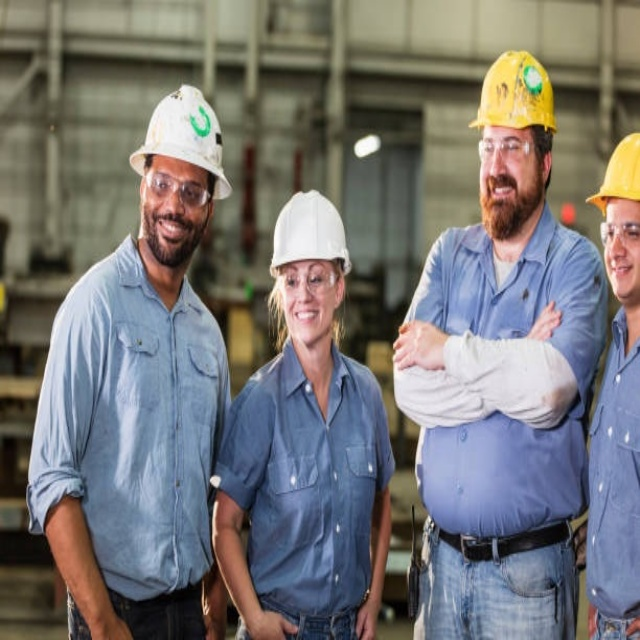Gafas: (145, 163, 212, 212), (277, 260, 340, 295), (478, 133, 540, 162), (599, 216, 638, 249)
Sin_guantes: (389, 314, 445, 376), (524, 296, 566, 339), (250, 604, 294, 638), (355, 598, 378, 638)
Sin_mascara: (481, 174, 519, 226), (153, 215, 188, 251), (291, 304, 325, 340), (607, 260, 633, 290)
